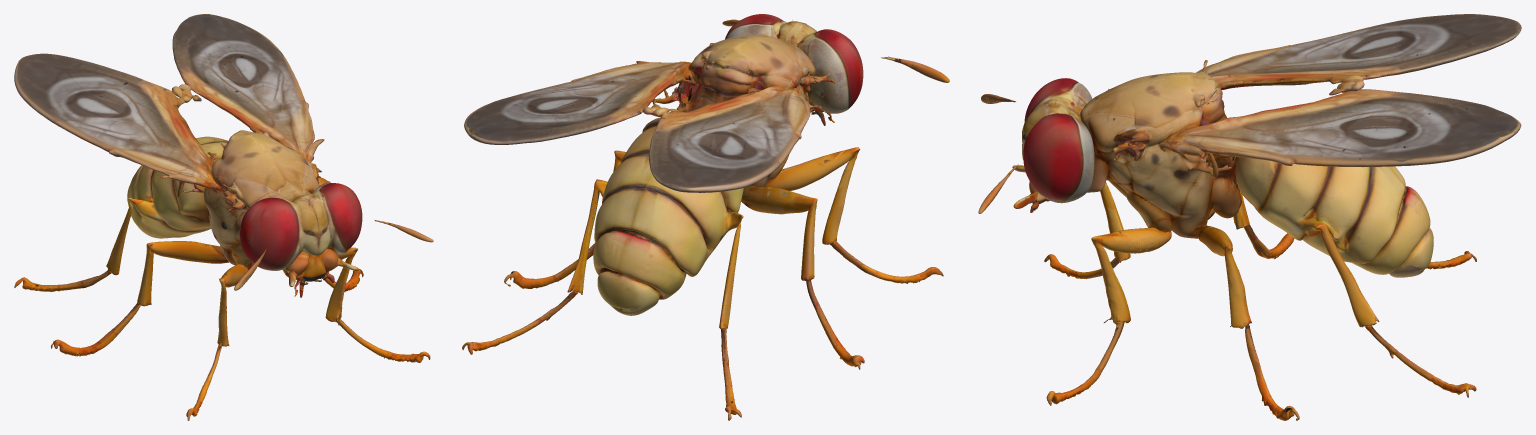
Rendered from modele_de_3d_d_une_dr_0718235326_texture.glb.
3 views of the same model, side by side, from view 1: azimuth 30°, elevation 25°; view 2: azimuth 150°, elevation 25°; view 3: azimuth 270°, elevation 25° (orthographic). The views are drawn at different scales.
Bounding box in the file's own units: 1.58 × 1.06 × 1.99.
Materials: 1 (1 with a texture image).
